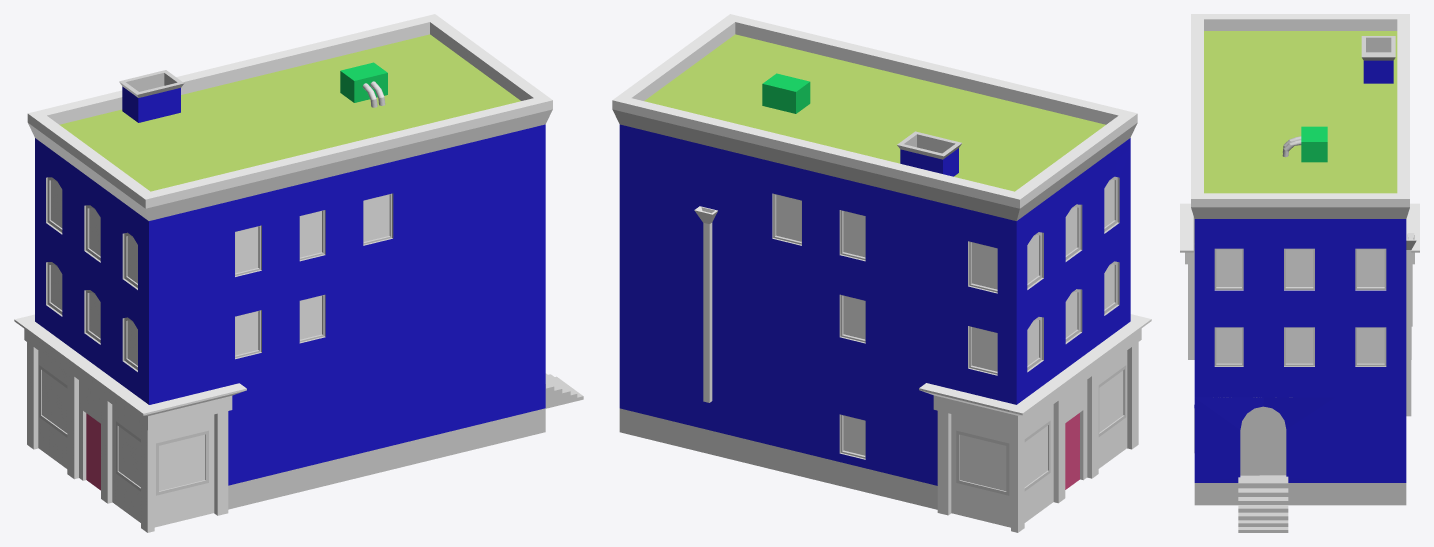
File: building.glb
3 renders of one model, left to right at view 1: azimuth 30°, elevation 25°; view 2: azimuth 150°, elevation 25°; view 3: azimuth 270°, elevation 25°, orthographic. The views are drawn at different scales.
Parts seen in each view (by area): view 1: Cube, Cube.001; view 2: Cube, Cube.001; view 3: Cube, Cube.001.
Part boxes in pixels (box(x1,y1,x2,y2)): Cube: box(14, 14, 583, 532); Cube.001: box(42, 180, 389, 491); Cube: box(612, 14, 1151, 532); Cube.001: box(776, 179, 1123, 491); Cube: box(1180, 14, 1419, 532); Cube.001: box(1216, 249, 1384, 363).
Size of what is drawn, in the model's own units: 7.65 by 5.42 by 3.62.
